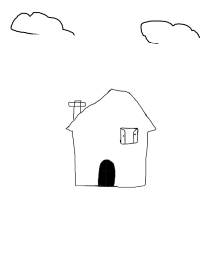chimney: (66, 92, 89, 123)
clouds: (132, 7, 208, 53), (8, 9, 79, 46)
door: (90, 154, 124, 191)
open_window: (117, 123, 144, 149)
single_line_roof: (57, 83, 158, 133)
small_house: (1, 1, 220, 260)
wall: (68, 120, 152, 192)
